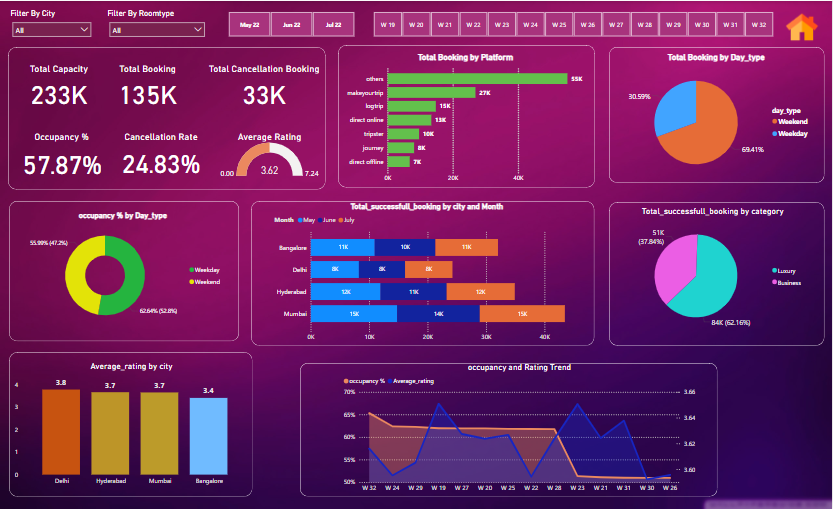

The dashboard page shown, as its layout file describes it:
{"tool":"powerbi","page":{"name":"Booking_Analysis","canvas":[1800,1100],"ordinal":3},"visuals":[{"type":"card","title":"Total Capacity","fields":{"Values":["Key_measures.Total_capacity"]},"box":[29.2,133.7,199.3,102.1],"z":0},{"type":"slicer","title":"Filter By City","fields":{"Values":["dim_hotels.city"]},"box":[17,17,189.5,77.8],"z":1000},{"type":"slicer","title":"Filter By Roomtype","fields":{"Values":["dim_rooms.room_class"]},"box":[228.4,17,226,77.8],"z":2000},{"type":"slicer","fields":{"Values":["dim_date.mmm yy"]},"box":[469,17,320.8,65.6],"z":3000},{"type":"slicer","fields":{"Values":["dim_date.week no"]},"box":[784.9,17,913.7,65.6],"z":4000},{"type":"actionButton","box":[1698.6,17,87.5,77.8],"z":5000},{"type":"card","title":"Total Booking","fields":{"Values":["Key_measures.Total_booking"]},"box":[228.4,133.7,184.7,102.1],"z":6000},{"type":"card","title":"Total Cancellation Booking","fields":{"Values":["Key_measures.Toatal_cancelled_booking"]},"box":[439.8,133.7,264.9,102.1],"z":7000},{"type":"card","title":"Occupancy %","fields":{"Values":["Key_measures.occupancy %"]},"box":[38.9,281.9,189.5,109.4],"z":8000},{"type":"card","title":"Cancellation Rate","fields":{"Values":["Key_measures.Cancellation Rate"]},"box":[257.6,281.9,182.3,106.9],"z":9000},{"type":"gauge","title":"Average Rating","fields":{"Y":["Key_measures.Average_rating"]},"box":[464.1,281.9,240.6,106.9],"z":10000},{"type":"shape","box":[17,99.6,687.7,308.6],"z":11000},{"type":"barChart","title":"Total Booking by Platform","fields":{"Y":["Key_measures.Total_booking"],"Category":["fact_bookings.booking_platform"]},"box":[738.8,109.4,539.5,291.6],"z":12000},{"type":"pieChart","title":"Total Booking by Day_type","fields":{"Y":["Key_measures.Total_booking"],"Category":["dim_date.day_type"]},"box":[1339,109.4,425.3,284.3],"z":13000},{"type":"donutChart","title":"occupancy % by Day_type","fields":{"Y":["Key_measures.occupancy %"],"Series":["dim_date.day_type"]},"box":[41.3,454.4,449.6,260],"z":14000},{"type":"barChart","fields":{"Y":["Key_measures.Total_successfull_booking"],"Category":["dim_hotels.city","dim_date.mmm yy.Variation.Date Hierarchy.Month"],"Series":["dim_date.mmm yy.Variation.Date Hierarchy.Month"]},"box":[588.1,435,670.7,311.1],"z":15000},{"type":"columnChart","fields":{"Y":["Key_measures.Average_rating"],"Category":["dim_hotels.city"]},"box":[26.7,780.1,517.6,277],"z":16000},{"type":"areaChart","title":"occupancy and Rating Trend","fields":{"Y":["Key_measures.occupancy %"],"Category":["dim_date.week no"],"Y2":["Key_measures.Average_rating"]},"box":[738.8,782.5,772.8,291.6],"z":17000},{"type":"shape","box":[731.5,94.8,556.5,308.6],"z":18000},{"type":"shape","box":[1319.5,99.6,466.6,294],"z":19000},{"type":"shape","box":[19.4,432.6,498.2,303.8],"z":20000},{"type":"shape","box":[19.4,760.6,527.3,313.5],"z":21000},{"type":"pieChart","fields":{"Y":["Key_measures.Total_successfull_booking"],"Category":["dim_hotels.category"]},"box":[1339,444.7,410.7,281.9],"z":22000},{"type":"shape","box":[544.3,432.6,743.6,313.5],"z":23000},{"type":"shape","box":[1319.5,435,466.6,311.1],"z":24000},{"type":"shape","box":[648.8,784.9,904,289.2],"z":25000}]}

Visuals, with their boxes in screenshot pixels (x1, y1, x2, y2), scaled from the page's 1800x1100 canvas onto the 833x509 screenshot:
"Total Capacity" card: (left=14, top=62, right=106, bottom=109)
"Filter By City" slicer: (left=8, top=8, right=96, bottom=44)
"Filter By Roomtype" slicer: (left=106, top=8, right=210, bottom=44)
slicer - dim_date.mmm yy: (left=217, top=8, right=366, bottom=38)
slicer - dim_date.week no: (left=363, top=8, right=786, bottom=38)
actionButton: (left=786, top=8, right=827, bottom=44)
"Total Booking" card: (left=106, top=62, right=191, bottom=109)
"Total Cancellation Booking" card: (left=204, top=62, right=326, bottom=109)
"Occupancy %" card: (left=18, top=130, right=106, bottom=181)
"Cancellation Rate" card: (left=119, top=130, right=204, bottom=180)
"Average Rating" gauge: (left=215, top=130, right=326, bottom=180)
shape: (left=8, top=46, right=326, bottom=189)
"Total Booking by Platform" barChart: (left=342, top=51, right=592, bottom=186)
"Total Booking by Day_type" pieChart: (left=620, top=51, right=816, bottom=182)
"occupancy % by Day_type" donutChart: (left=19, top=210, right=227, bottom=331)
barChart - Key_measures.Total_successfull_booking x dim_hotels.city: (left=272, top=201, right=583, bottom=345)
columnChart - Key_measures.Average_rating x dim_hotels.city: (left=12, top=361, right=252, bottom=489)
"occupancy and Rating Trend" areaChart: (left=342, top=362, right=700, bottom=497)
shape: (left=339, top=44, right=596, bottom=187)
shape: (left=611, top=46, right=827, bottom=182)
shape: (left=9, top=200, right=240, bottom=341)
shape: (left=9, top=352, right=253, bottom=497)
pieChart - Key_measures.Total_successfull_booking x dim_hotels.category: (left=620, top=206, right=810, bottom=336)
shape: (left=252, top=200, right=596, bottom=345)
shape: (left=611, top=201, right=827, bottom=345)
shape: (left=300, top=363, right=719, bottom=497)
